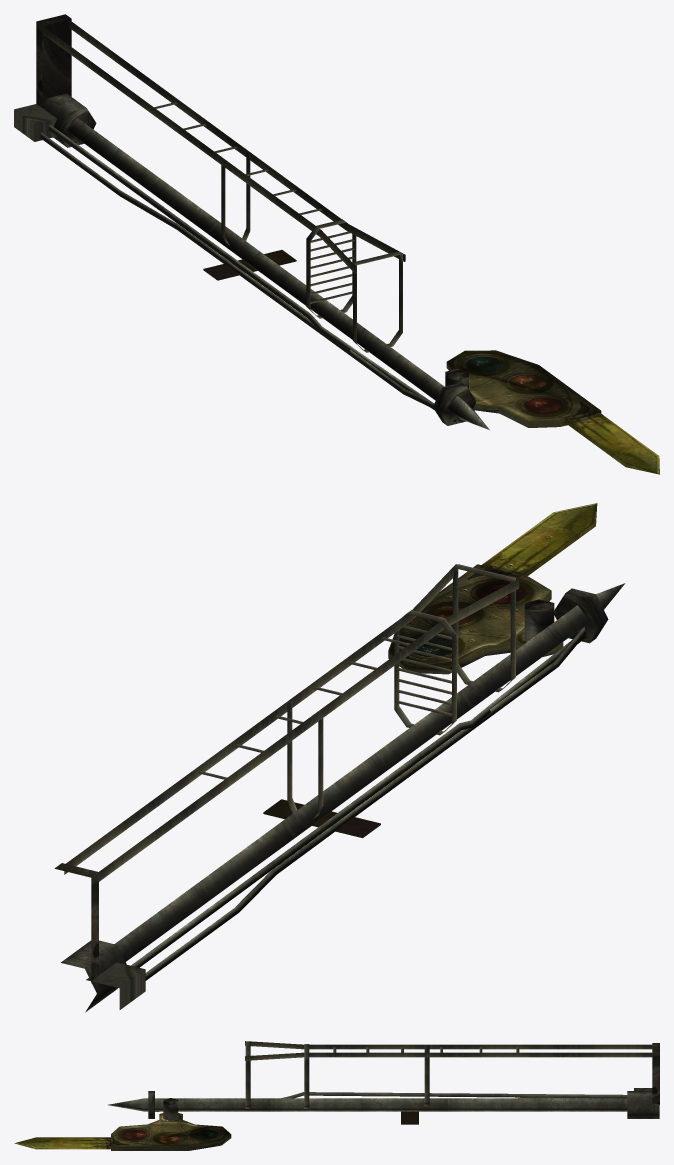
The model's file is prop_signallight.glb.
3 renders of one model, top to bottom at view 1: azimuth 30°, elevation 25°; view 2: azimuth 150°, elevation 25°; view 3: azimuth 270°, elevation 25°, orthographic. The views are drawn at different scales.
Size of the model in its own units: 65.79 by 44.53 by 381.
Materials: 1 (1 with a texture image).
